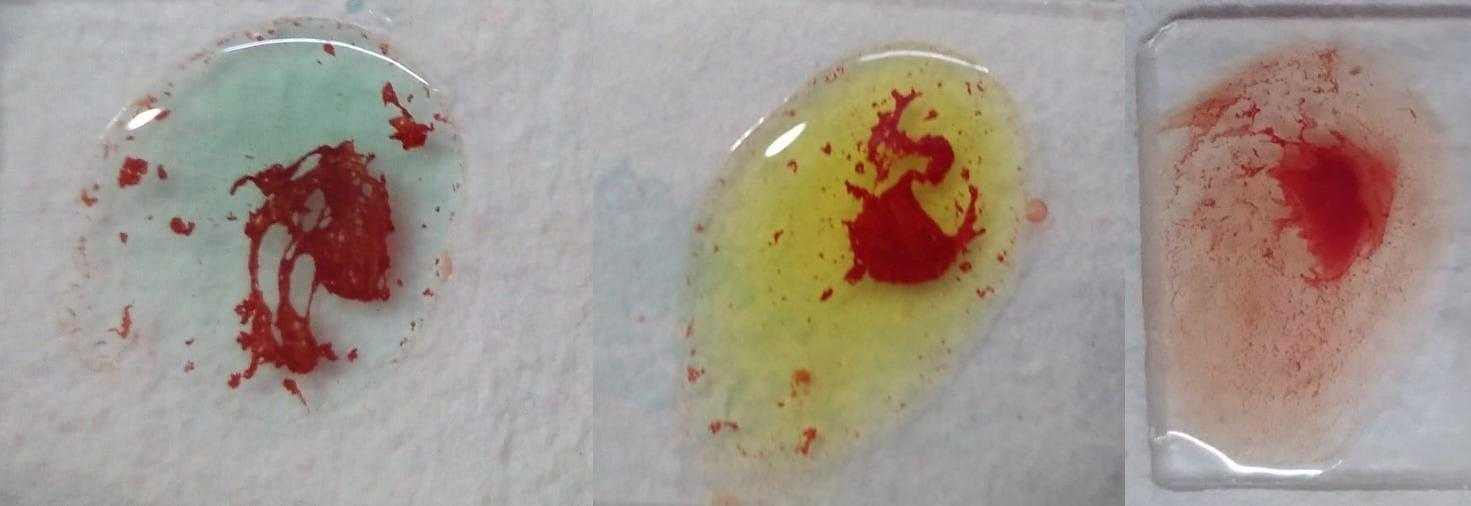A: (87, 17, 461, 426)
B: (697, 49, 1010, 448)
D: (1173, 35, 1416, 469)
